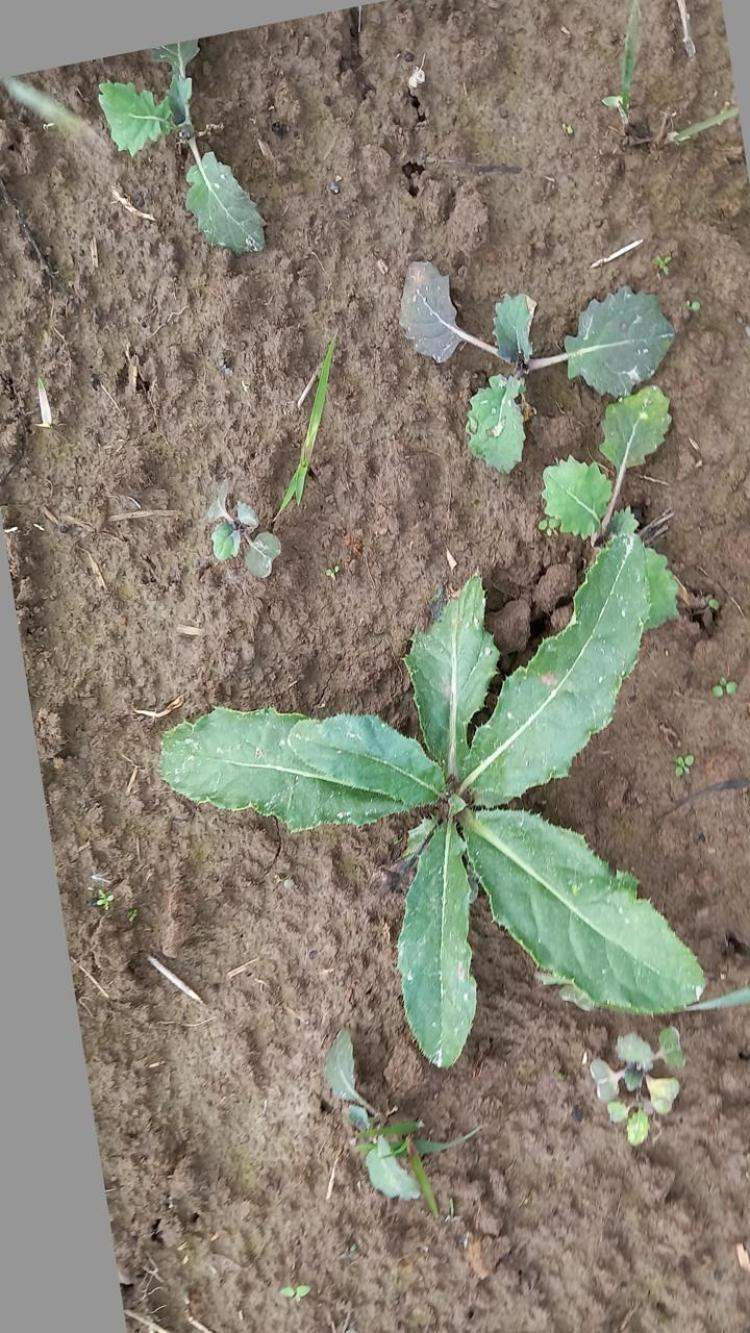bodyak: (158, 564, 708, 1068)
